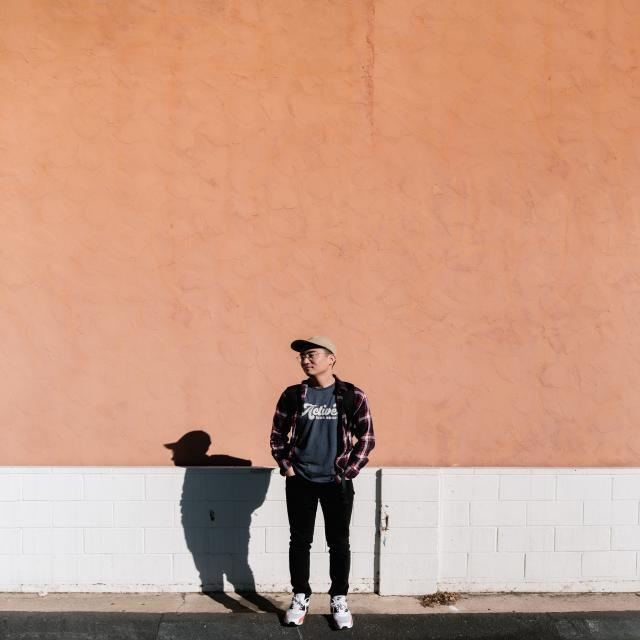person: (269, 334, 375, 630)
